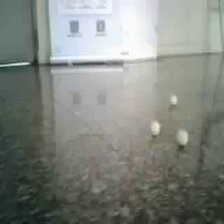tennis: (112, 125, 136, 157), (31, 92, 52, 120), (159, 85, 175, 107)
